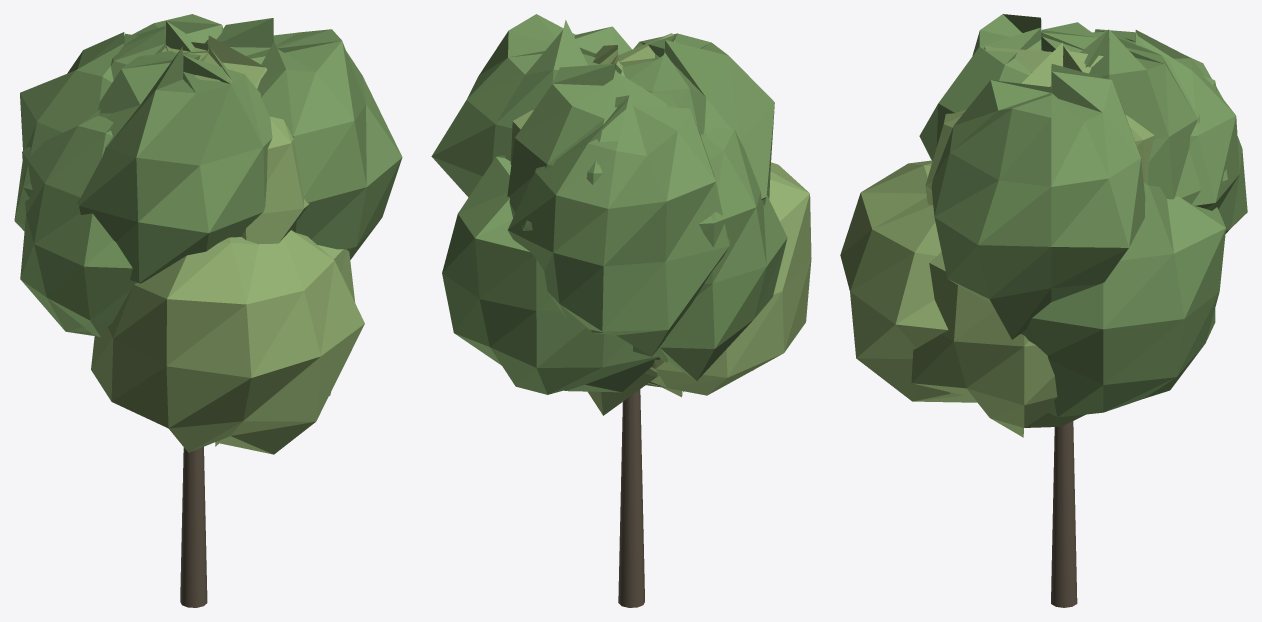
Rendered from oak_tree_variant_01.glb.
The picture shows the model from 3 angles, left to right: view 1: azimuth 30°, elevation 25°; view 2: azimuth 150°, elevation 25°; view 3: azimuth 270°, elevation 25°; orthographic projection. The views are drawn at different scales.
Parts seen in each view (by area): view 1: static_leaf_oak, static_leaf_light, static_bark; view 2: static_leaf_oak, static_leaf_light, static_bark; view 3: static_leaf_oak, static_leaf_light, static_bark.
Part boxes in pixels (x1=…): static_leaf_oak: x1=14, y1=14, x2=402, y2=337; static_leaf_light: x1=91, y1=35, x2=364, y2=454; static_bark: x1=180, y1=447, x2=207, y2=607; static_leaf_oak: x1=431, y1=14, x2=787, y2=394; static_leaf_light: x1=510, y1=33, x2=811, y2=415; static_bark: x1=618, y1=389, x2=644, y2=607; static_leaf_oak: x1=919, y1=14, x2=1247, y2=417; static_leaf_light: x1=840, y1=42, x2=1154, y2=437; static_bark: x1=1051, y1=421, x2=1077, y2=607.
Size of the model in its own units: 5.39 by 9.19 by 5.91.
